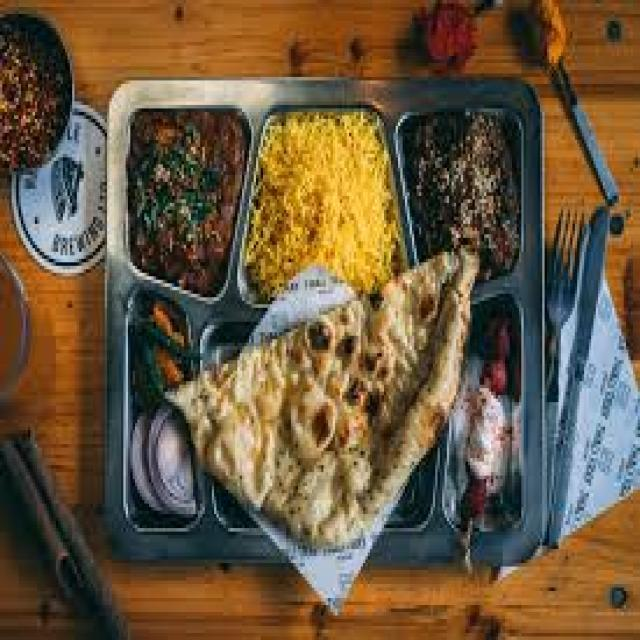raita: (133, 397, 203, 516)
rice: (239, 103, 403, 307), (600, 193, 640, 399)
roti: (214, 283, 464, 530), (364, 250, 472, 496)
veg-fry: (242, 98, 403, 308)
